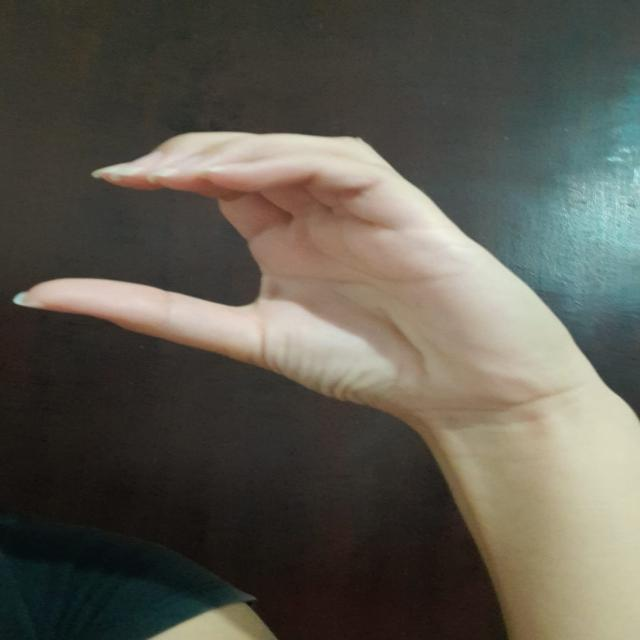C: (11, 120, 623, 412)
